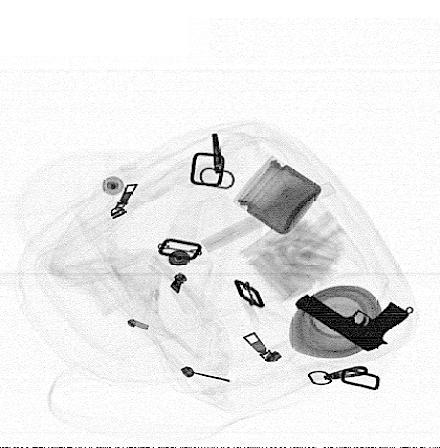Gun: (291, 292, 413, 353)
